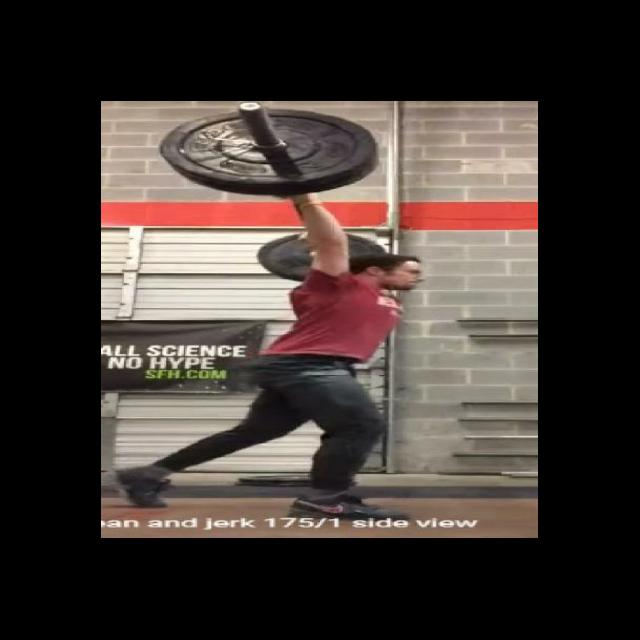barbell: (155, 108, 397, 198)
